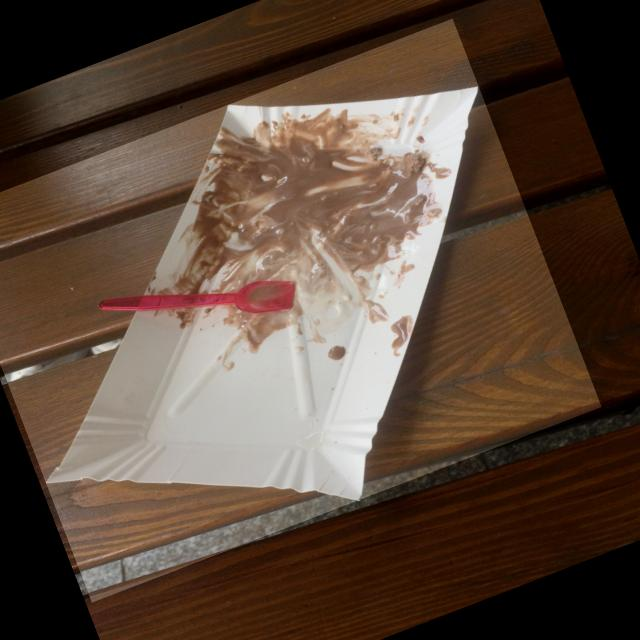Food Carton: (46, 87, 479, 500)
Other container: (100, 281, 297, 313)
